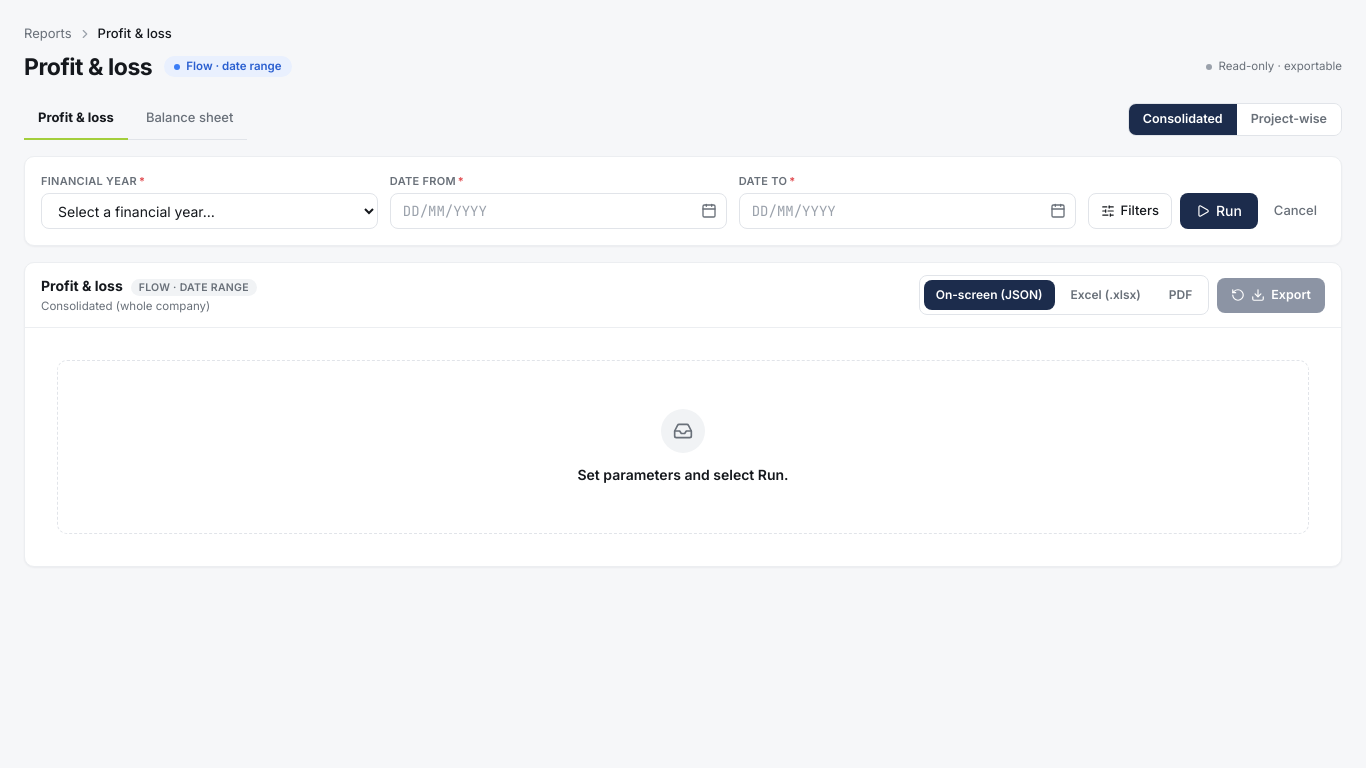
it: Financial statements — P&L body (FR-RPT-013) › renders Income + Expense + Profit band on a profit
The image size is (1366, 768).
Expected: the element with test id "report-parameter-panel" is shown, [24, 156, 1342, 246]
Type "01/04/2026" into the field labelled "Date from*" at (558, 211), box [390, 193, 727, 229]
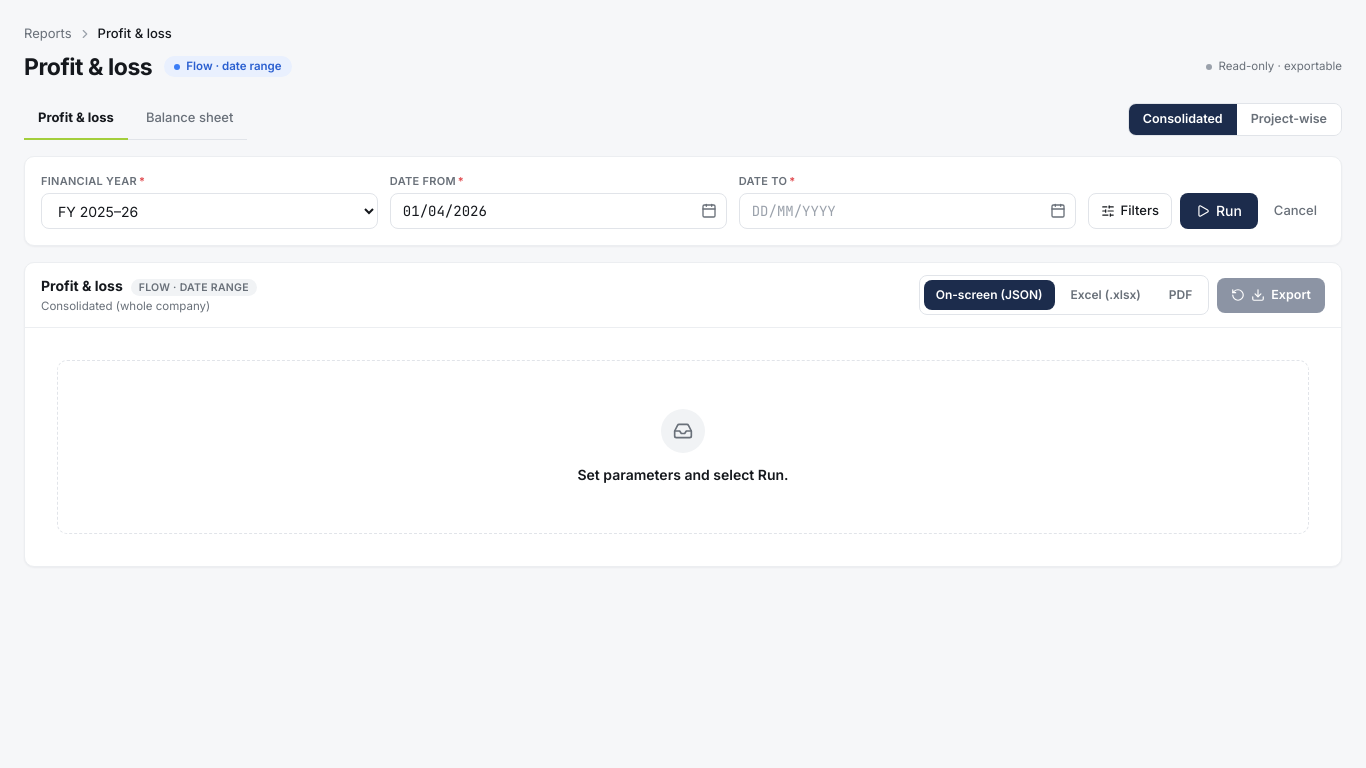
Type "30/06/2026" into the field labelled "Date to*" at (907, 211), box [739, 193, 1076, 229]
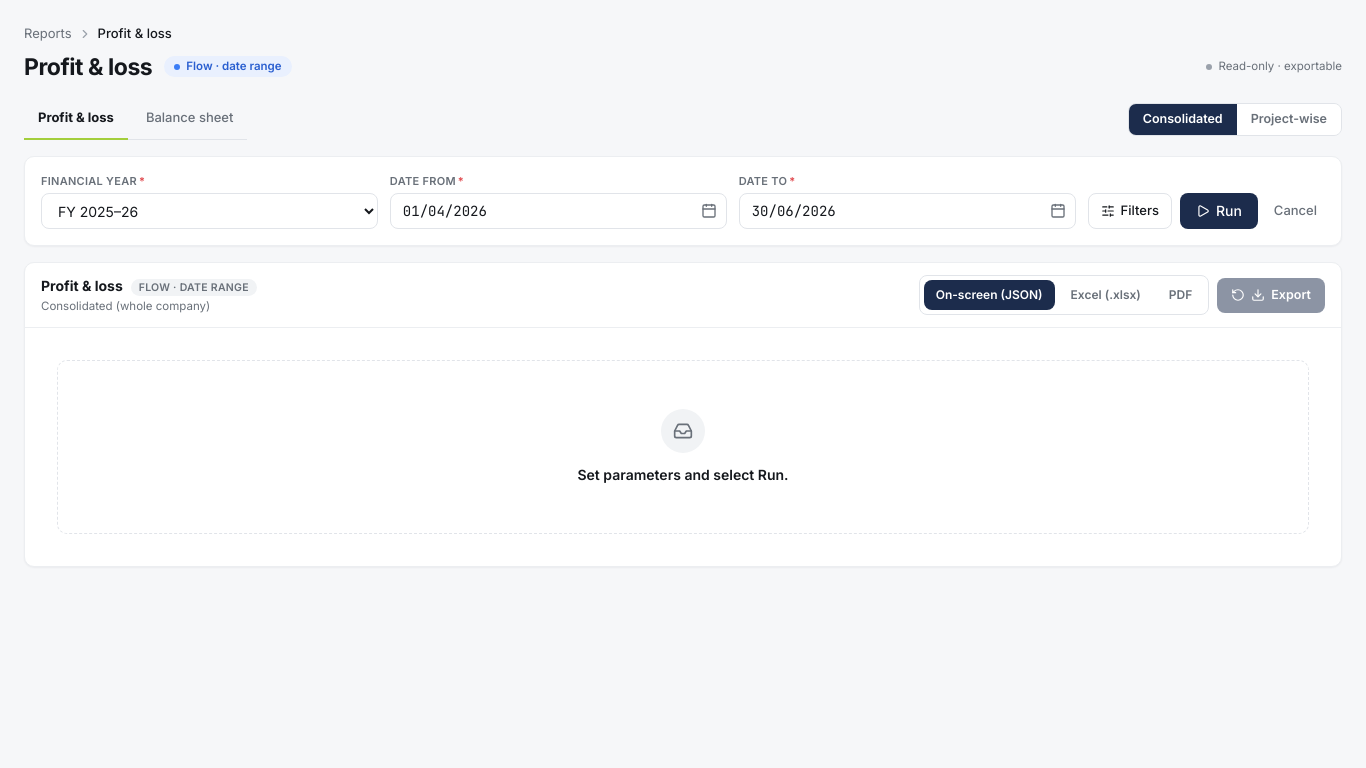
Click the button with test id "report-run" at (1219, 211), box [1180, 193, 1258, 229]
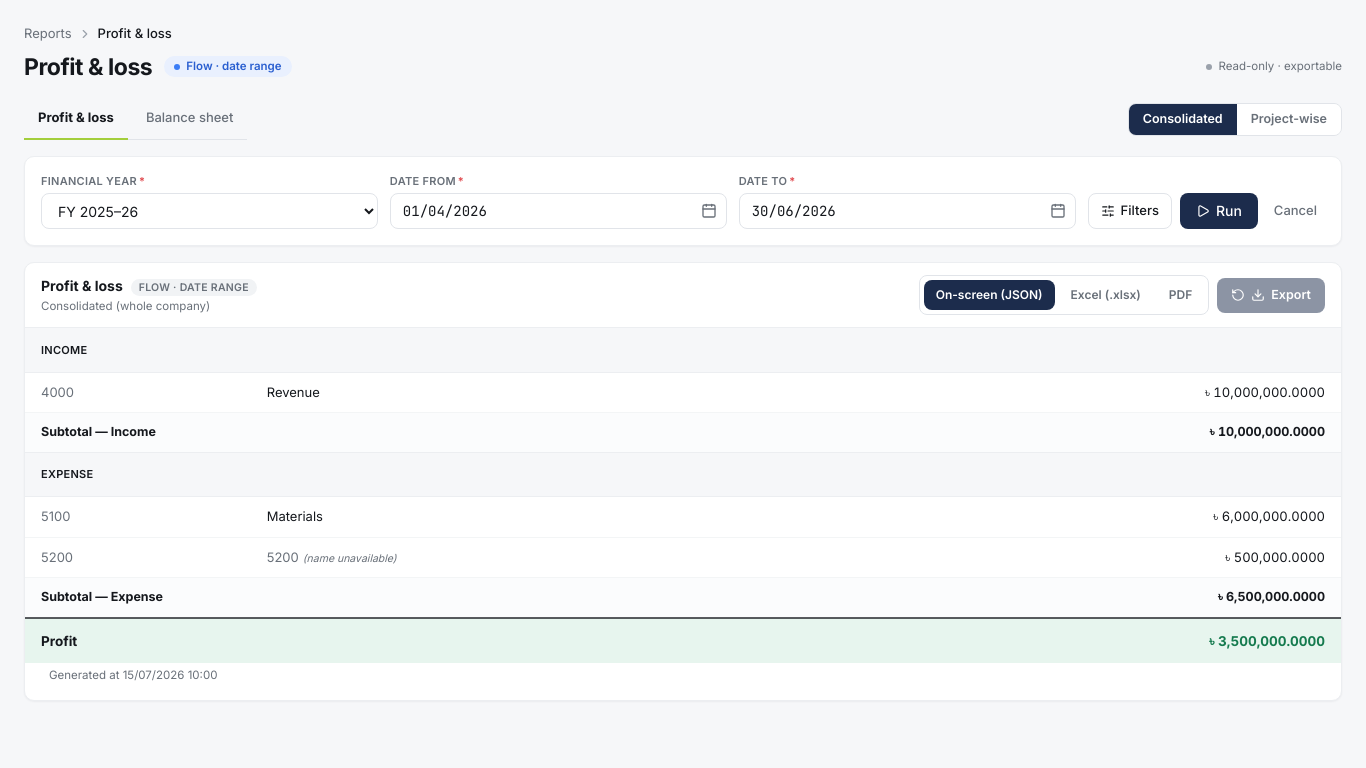
Expected: the element with test id "pnl-statement" is shown, [25, 328, 1341, 700]
Expected: the cell with test id "pnl-income-subtotal" shows "10,000,000", [1210, 424, 1325, 439]
Expected: the cell with test id "pnl-expense-subtotal" shows "6,500,000", [1218, 589, 1325, 604]
